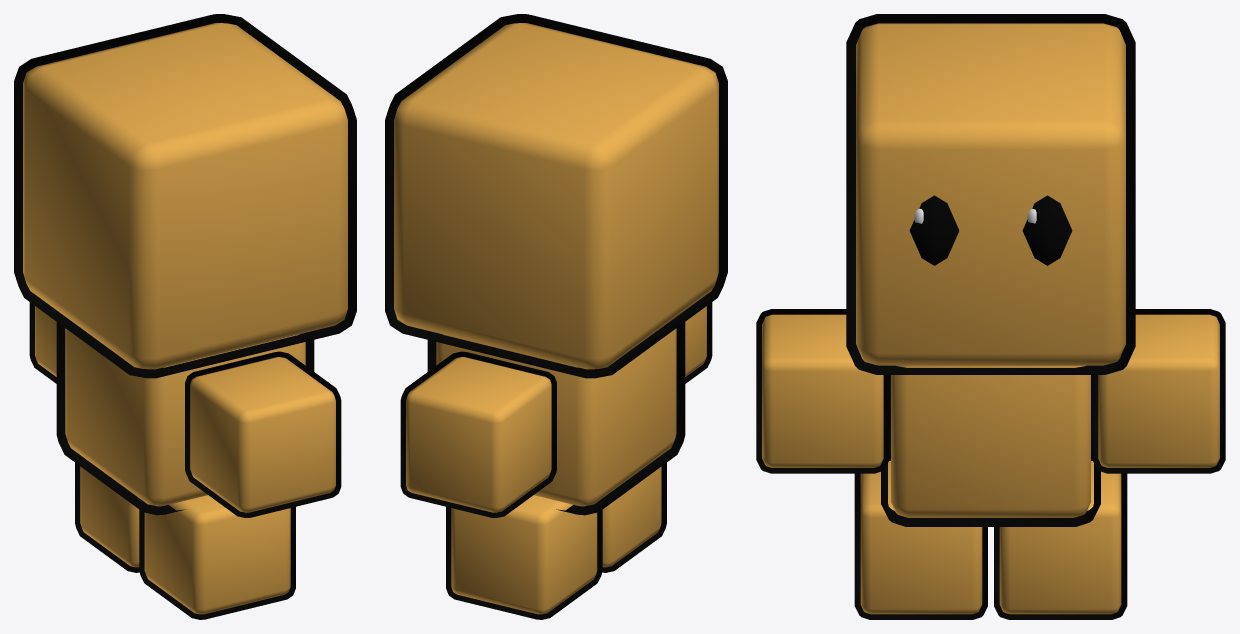
Rendered from Player.fbx.
3 renders of one model, left to right at view 1: azimuth 30°, elevation 25°; view 2: azimuth 150°, elevation 25°; view 3: azimuth 270°, elevation 25°, orthographic. The views are drawn at different scales.
Visible parts, largest first — view 1: Cube.001, Cube.003, Cube, Cube.005, Cube.004, Cube.002; view 2: Cube.001, Cube.002, Cube, Cube.004, Cube.005, Cube.003; view 3: Cube.001, Cube, Cube.002, Cube.003, Cube.004, Cube.005, Sphere, Sphere.001.
Boxes of the visible parts, x1=… form: Cube.001: x1=14, y1=14, x2=356, y2=378; Cube.003: x1=185, y1=351, x2=341, y2=517; Cube: x1=56, y1=322, x2=314, y2=515; Cube.005: x1=139, y1=495, x2=295, y2=619; Cube.004: x1=75, y1=462, x2=139, y2=572; Cube.002: x1=29, y1=302, x2=56, y2=383; Cube.001: x1=385, y1=14, x2=727, y2=378; Cube.002: x1=400, y1=351, x2=556, y2=517; Cube: x1=427, y1=322, x2=685, y2=515; Cube.004: x1=446, y1=495, x2=602, y2=619; Cube.005: x1=602, y1=462, x2=666, y2=572; Cube.003: x1=685, y1=302, x2=712, y2=383; Cube.001: x1=846, y1=14, x2=1135, y2=374; Cube: x1=881, y1=365, x2=1100, y2=526; Cube.002: x1=1092, y1=309, x2=1225, y2=473; Cube.003: x1=756, y1=309, x2=889, y2=473; Cube.004: x1=994, y1=455, x2=1127, y2=619; Cube.005: x1=854, y1=455, x2=987, y2=619; Sphere: x1=1022, y1=195, x2=1072, y2=265; Sphere.001: x1=909, y1=195, x2=959, y2=265.
Bounding box in the file's own units: 2737 × 5509 × 4383.
